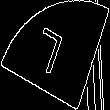L_SW: (36, 26, 74, 84)
